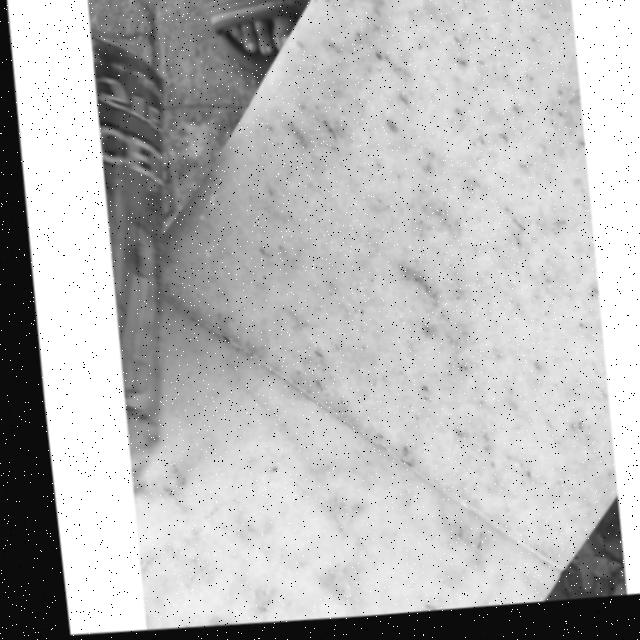Monster Aussie Lemonade: (81, 34, 197, 495)
